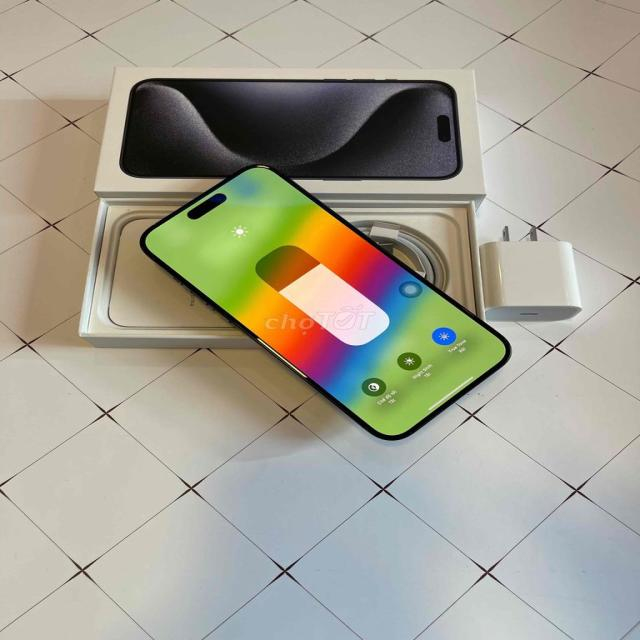gen_15: (120, 158, 524, 446)
